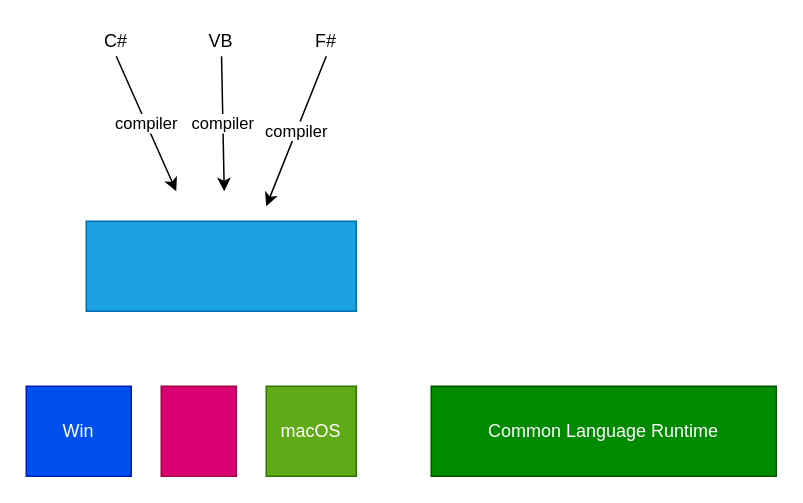
Some shapes in this 803 by 503 pixel diagram are drawn without their labels. The box of each missing label's shape, as (x1, y1, x2, y2) in pixels:
.dll/.exe met daarin: MSIL: (85, 220, 356, 311)
Linux: (160, 385, 236, 476)
